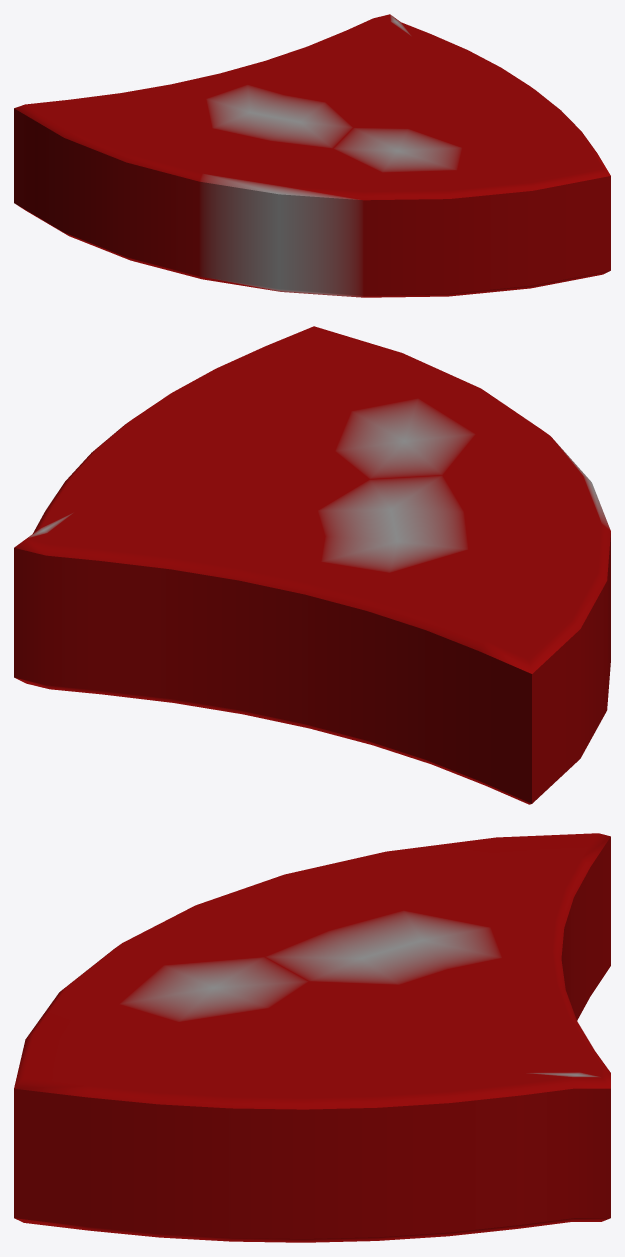
Rendered from MoonBaboon_ShutterDoor_01.gltf.
The picture shows the model from 3 angles, top to bottom: view 1: azimuth 30°, elevation 25°; view 2: azimuth 150°, elevation 25°; view 3: azimuth 270°, elevation 25°; orthographic projection. The views are drawn at different scales.
Parts seen in each view (by area): view 1: MoonBaboon_ShutterDoor_01; view 2: MoonBaboon_ShutterDoor_01; view 3: MoonBaboon_ShutterDoor_01.
Part boxes in pixels (left/top/right/bottom): MoonBaboon_ShutterDoor_01: left=14, top=14, right=610, bottom=297; MoonBaboon_ShutterDoor_01: left=14, top=326, right=610, bottom=804; MoonBaboon_ShutterDoor_01: left=14, top=833, right=610, bottom=1242.
Size of the model in its own units: 1.7 by 0.419 by 1.57.
